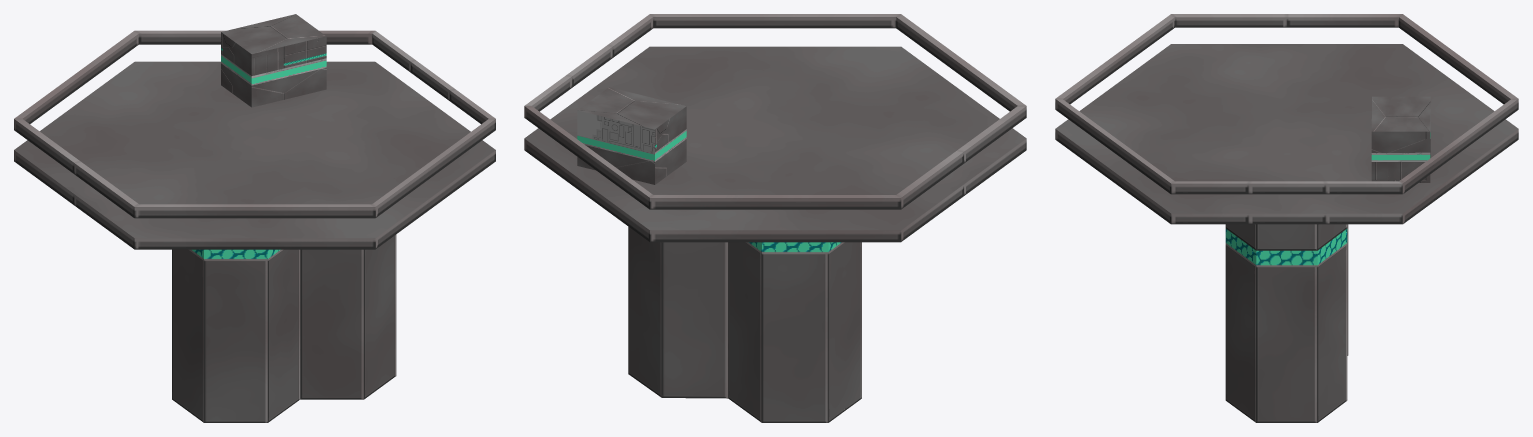
File: economyMILState2.fbx
3 views of the same model, side by side, from view 1: azimuth 30°, elevation 25°; view 2: azimuth 150°, elevation 25°; view 3: azimuth 270°, elevation 25° (orthographic). The views are drawn at different scales.
Parts seen in each view (by area): view 1: Cylinder_001; view 2: Cylinder_001; view 3: Cylinder_001.
Part boxes in pixels (x1,y1,x2,y2): Cylinder_001: (14,14,495,422); Cylinder_001: (524,14,1026,422); Cylinder_001: (1055,14,1518,422).
Bounding box in the file's own units: 1.73 × 1.37 × 2.
